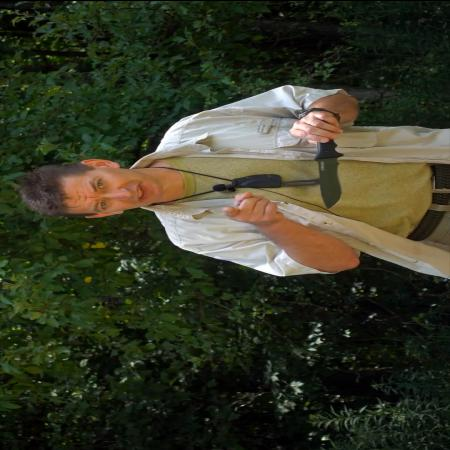long weapon: (287, 121, 347, 211)
